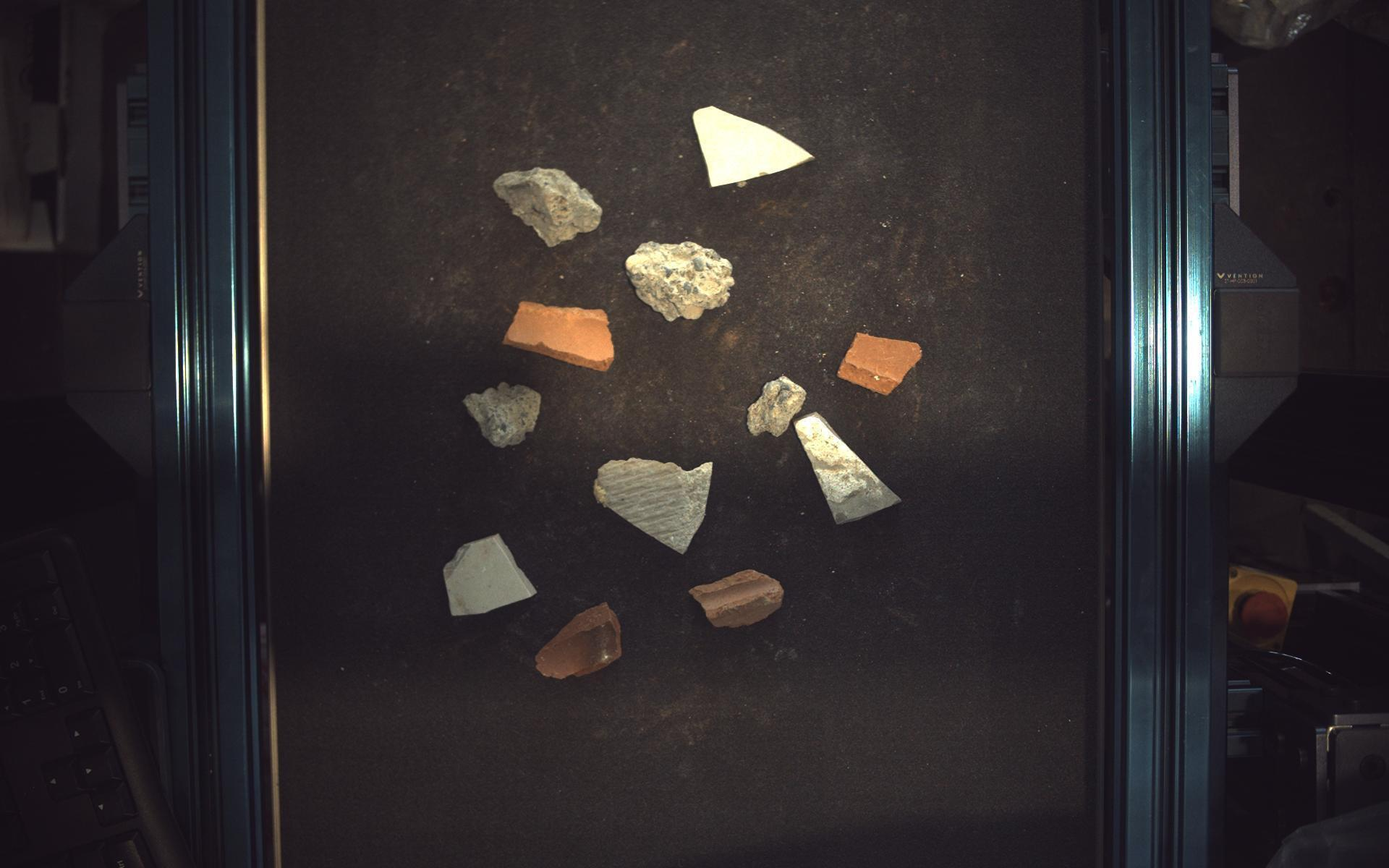brick: (504, 301, 615, 371), (537, 603, 621, 680), (691, 570, 785, 629), (840, 332, 923, 395)
concrete: (493, 166, 602, 247), (627, 241, 735, 321), (464, 382, 541, 448), (748, 375, 808, 437)
tile: (796, 413, 902, 524), (594, 458, 713, 554), (694, 105, 814, 186), (443, 535, 536, 617)
